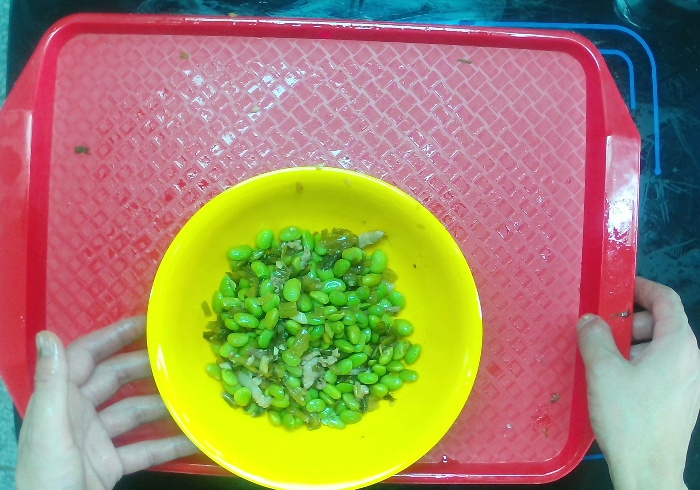YKMZ-Huang_Se_Tang_Wan: (144, 163, 482, 490)
